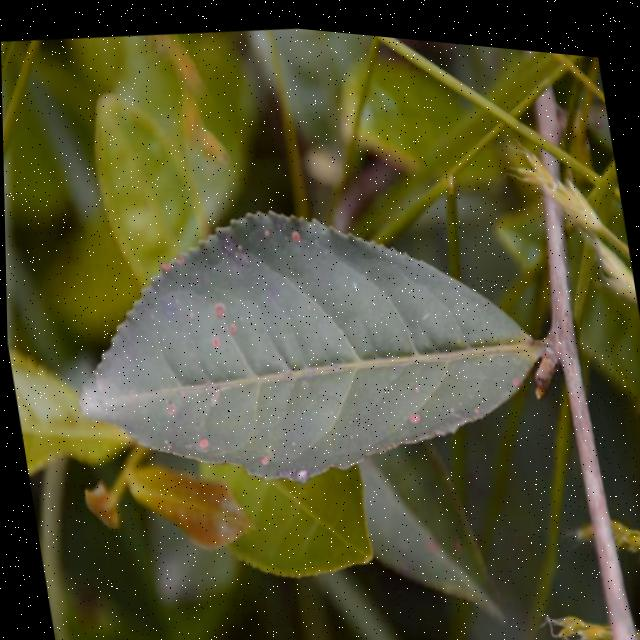Tea algae leaf spot: (123, 164, 537, 491)
